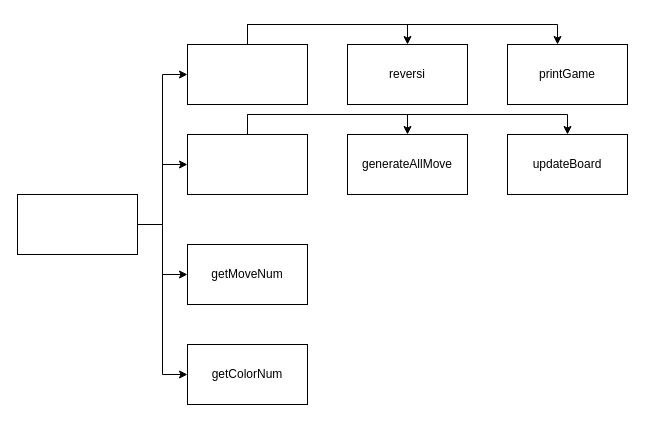
This 645x422 diagram has some shape labels left out. Here are the shapes that lost their labels. From the top down, the box of each, then its label:
(186, 44, 308, 104): initialization
(186, 134, 308, 194): runGame
(16, 194, 138, 254): main
